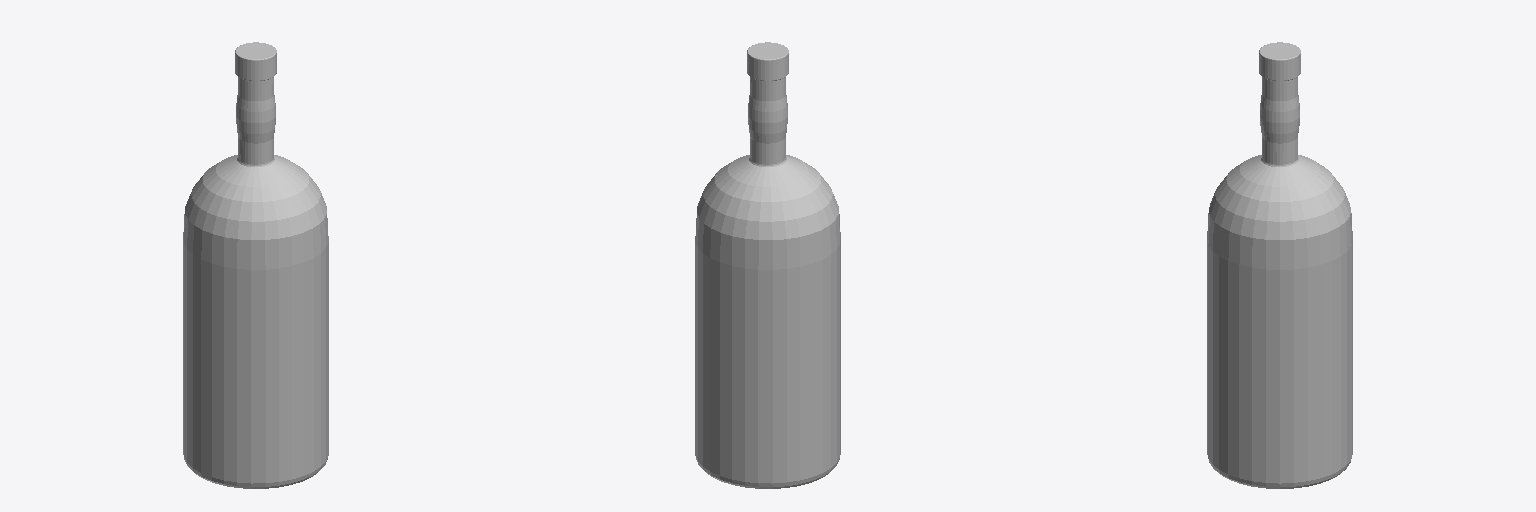
The model's file is Bottle1.obj.
3 views of the same model, side by side, from view 1: azimuth 30°, elevation 25°; view 2: azimuth 150°, elevation 25°; view 3: azimuth 270°, elevation 25° (orthographic).
Visible parts, largest first — view 1: Cylinder.003_Cylinder.003; view 2: Cylinder.003_Cylinder.003; view 3: Cylinder.003_Cylinder.003.
Part boxes in pixels (x1,y1,x2,y2): Cylinder.003_Cylinder.003: (183,42,328,488); Cylinder.003_Cylinder.003: (695,42,840,488); Cylinder.003_Cylinder.003: (1207,42,1352,488).
Size of the model in its own units: 0.2803 by 0.8692 by 0.2803.